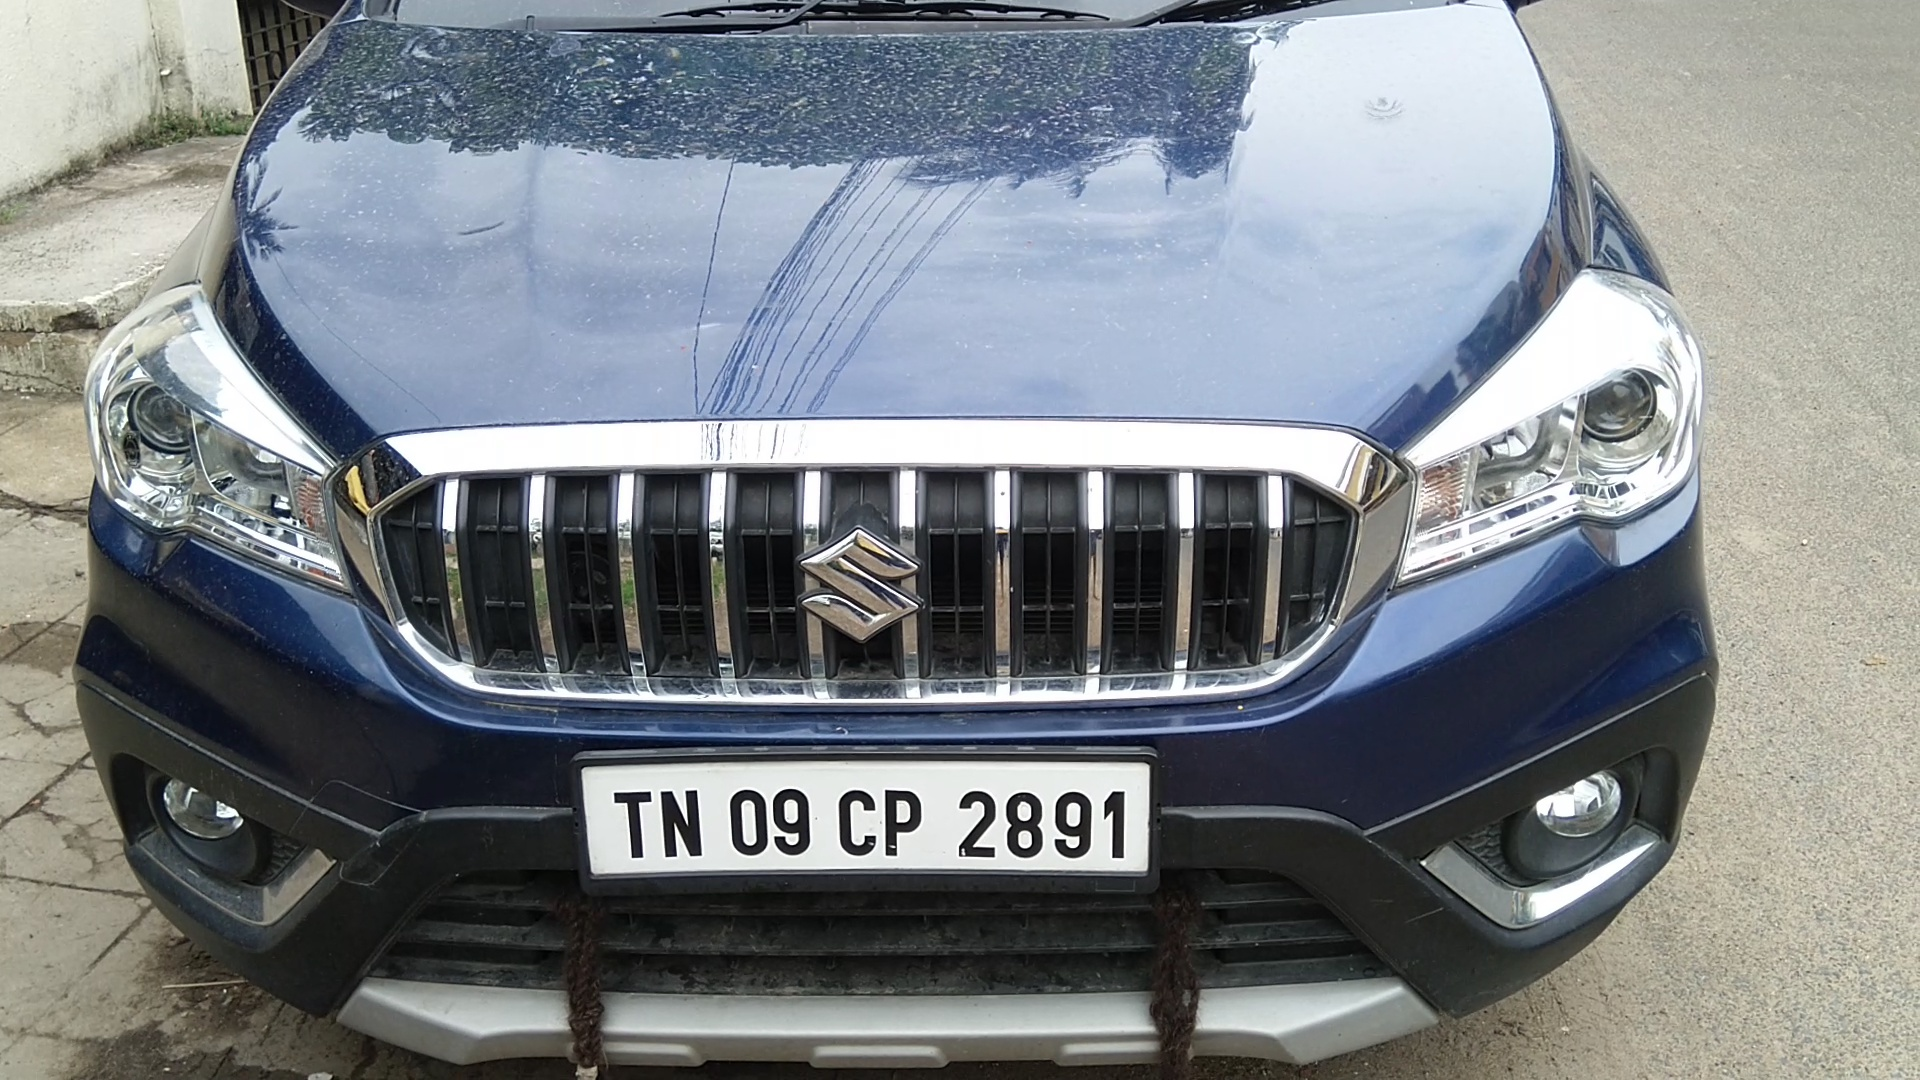front_grill: (335, 415, 1411, 711)
headlamp: (1411, 247, 1705, 616), (79, 281, 344, 599)
